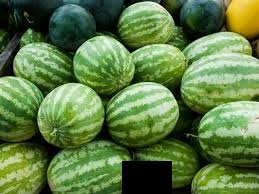watermelon: (105, 82, 181, 148), (47, 142, 136, 192), (38, 81, 103, 149), (182, 55, 258, 110), (74, 36, 136, 91)
